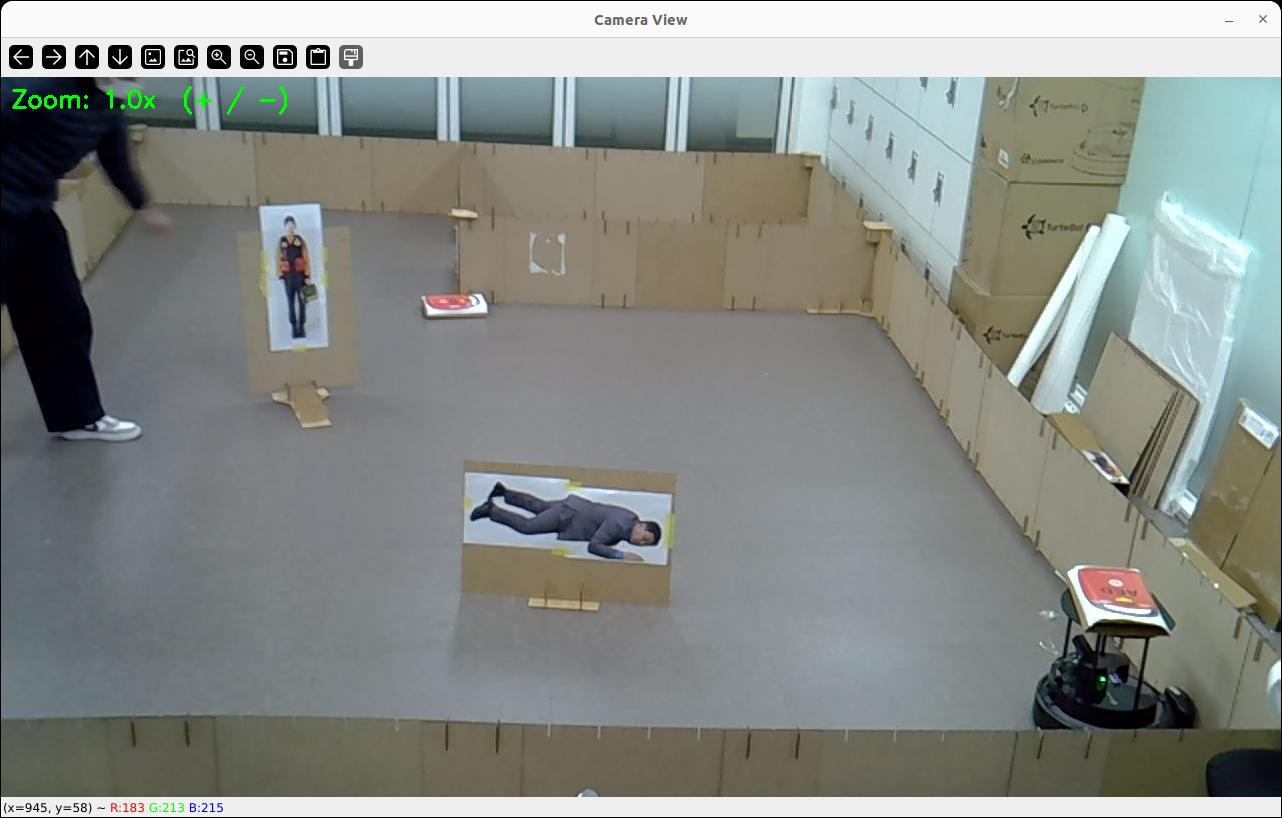Patient: (472, 483, 661, 558)
Responder: (278, 216, 310, 338)
